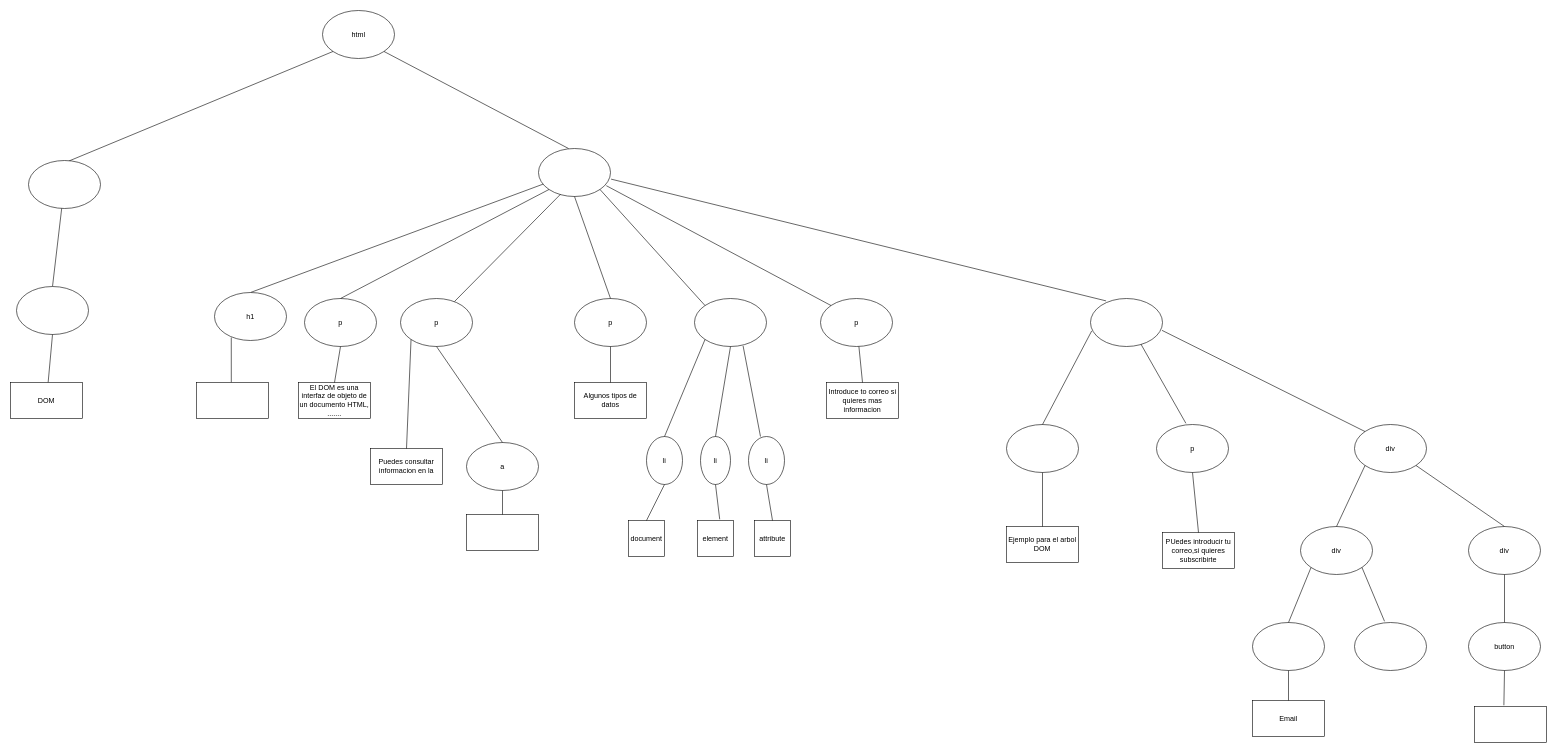
The diagram is 1557 pixels wide and 753 high, and some of its shapes have lost their labels. Here are the shapes that lost their labels. From the top down, the centre of each, then its label:
point (64, 184): head
point (574, 172): body
point (52, 310): title
point (730, 322): ul
point (1126, 322): form
point (232, 400): Introduccion al arbol DOM
point (1042, 448): h2
point (502, 532): Documentacion de Mozilla
point (1288, 646): label
point (1390, 646): input
point (1510, 724): Sign up now
